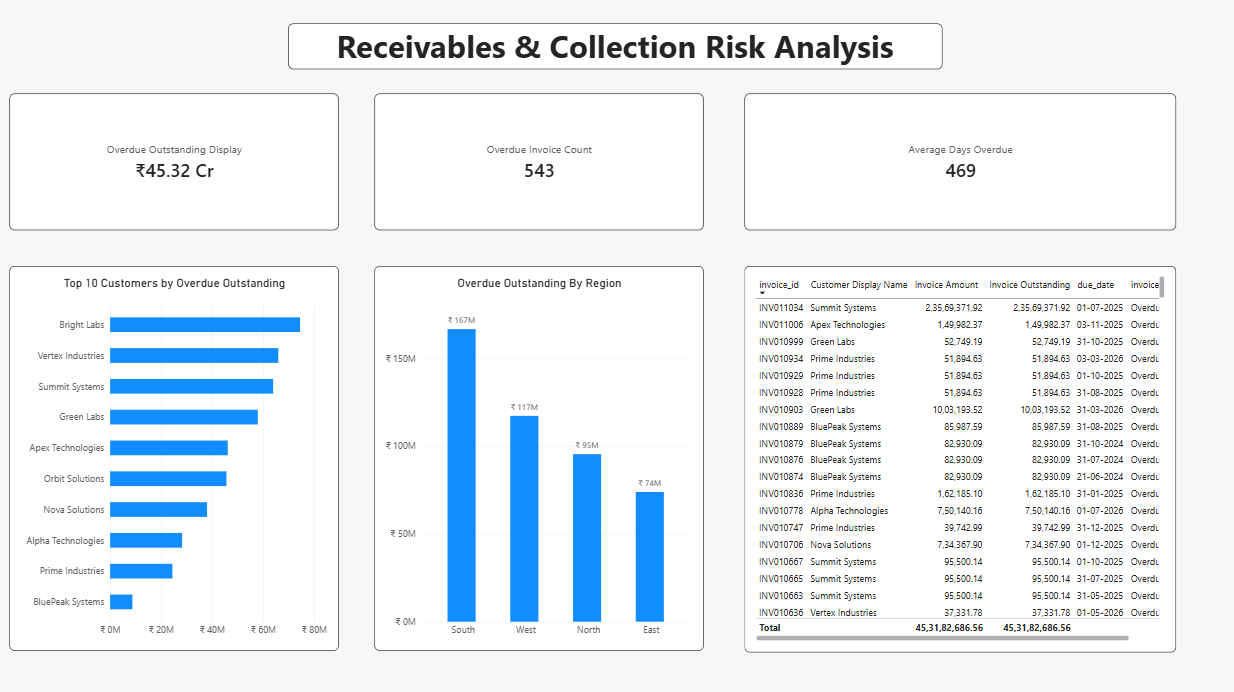

This screenshot's page, from the dashboard's own definition file:
{"tool":"powerbi","page":{"name":"Receivables Analysis","canvas":[1920,1080],"ordinal":1},"visuals":[{"type":"cardVisual","fields":{"Data":["invoices.Overdue Outstanding Display"]},"box":[26,150,506,210],"z":0},{"type":"cardVisual","fields":{"Data":["invoices.Overdue Invoice Count"]},"box":[588,150,506,210],"z":1000},{"type":"cardVisual","fields":{"Data":["invoices.Average Days Overdue"]},"box":[1158,150,664,210],"z":2000},{"type":"clusteredBarChart","title":"Top 10 Customers by Overdue Outstanding","fields":{"Category":["customers.Customer Display Name"],"Y":["invoices.Overdue Outstanding"]},"box":[26,416,506,592],"z":3000},{"type":"clusteredColumnChart","title":"Overdue Outstanding By Region","fields":{"Category":["customers.region"],"Y":["invoices.Overdue Outstanding"]},"box":[588,416,506,592],"z":4000},{"type":"tableEx","fields":{"Values":["invoices.invoice_id","invoices.Customer Display Name","Sum(invoices.invoice_amount)","invoices.Invoice Outstanding","invoices.due_date","invoices.invoice_status"]},"box":[1157.4,414.5,664,594.3],"z":5000},{"type":"textbox","box":[456,42,1006,70],"z":6000}]}

Visuals, with their boxes in screenshot pixels (x1, y1, x2, y2), scaled from the page's 1920x1080 canvas onto the 1234x692 screenshot:
cardVisual - invoices.Overdue Outstanding Display: x1=17 y1=96 x2=342 y2=231
cardVisual - invoices.Overdue Invoice Count: x1=378 y1=96 x2=703 y2=231
cardVisual - invoices.Average Days Overdue: x1=744 y1=96 x2=1171 y2=231
"Top 10 Customers by Overdue Outstanding" clusteredBarChart: x1=17 y1=267 x2=342 y2=646
"Overdue Outstanding By Region" clusteredColumnChart: x1=378 y1=267 x2=703 y2=646
tableEx - invoices.invoice_id x invoices.Customer Display Name: x1=744 y1=266 x2=1171 y2=646
textbox: x1=293 y1=27 x2=940 y2=72
